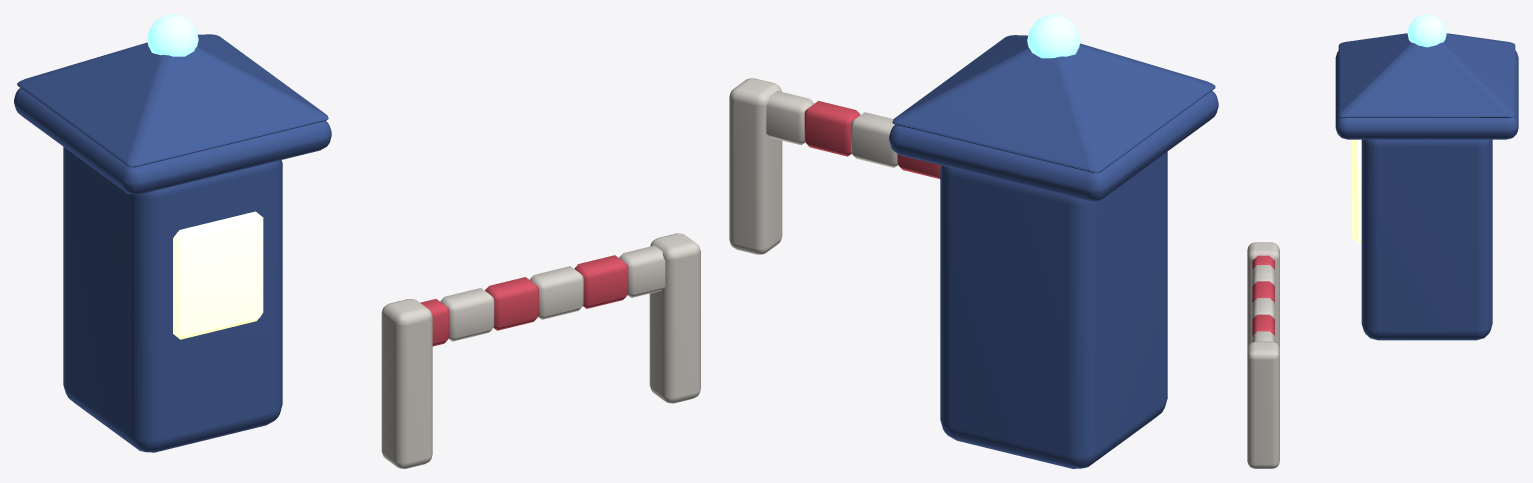
File: corner_tax_raid.glb
3 views of the same model, side by side, from view 1: azimuth 30°, elevation 25°; view 2: azimuth 150°, elevation 25°; view 3: azimuth 270°, elevation 25° (orthographic). The views are drawn at different scales.
Parts seen in each view (by area): view 1: Cube; view 2: Cube; view 3: Cube.
Part boxes in pixels (bbox=[...]): Cube: bbox=[14, 14, 700, 468]; Cube: bbox=[729, 14, 1218, 468]; Cube: bbox=[1247, 14, 1518, 468].
Size of the model in its own units: 0.695 by 0.51 by 0.415.
